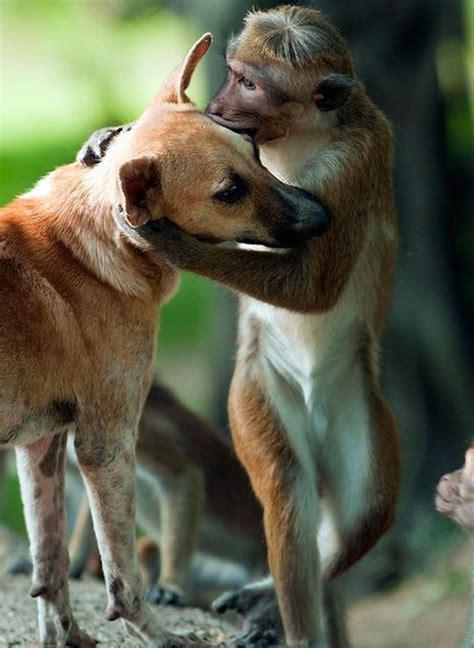dog: (1, 32, 330, 648)
monkey: (78, 6, 399, 648)
